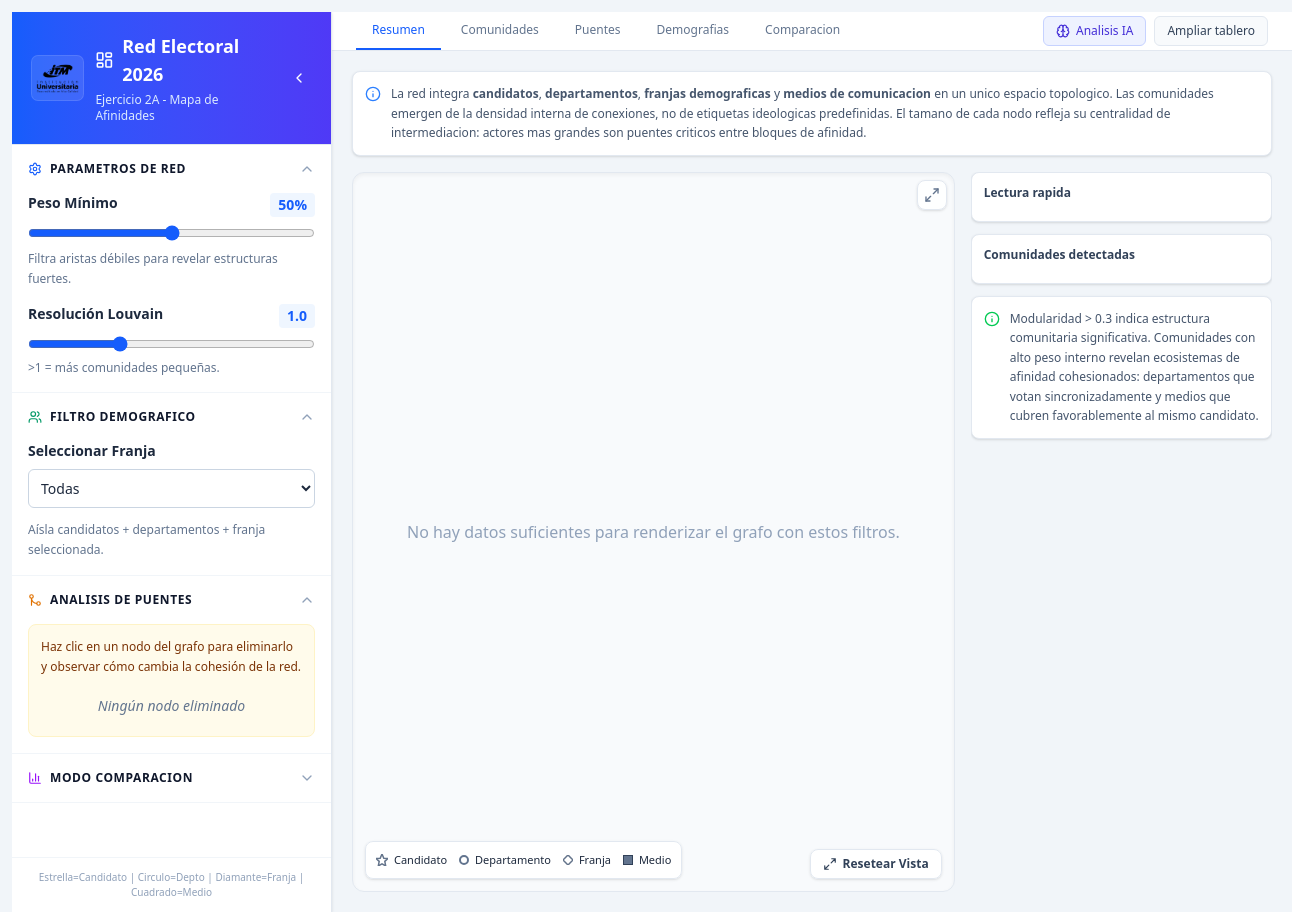
Scenario: App integration › permite cambiar de pestaña a Comunidades
This screenshot has width=1292, height=912.
Expected: the heading "Red Electoral 2026" is shown, [95,34,239,86]
Click the button "Comunidades".
click(500, 31)  # box [445,12,555,50]
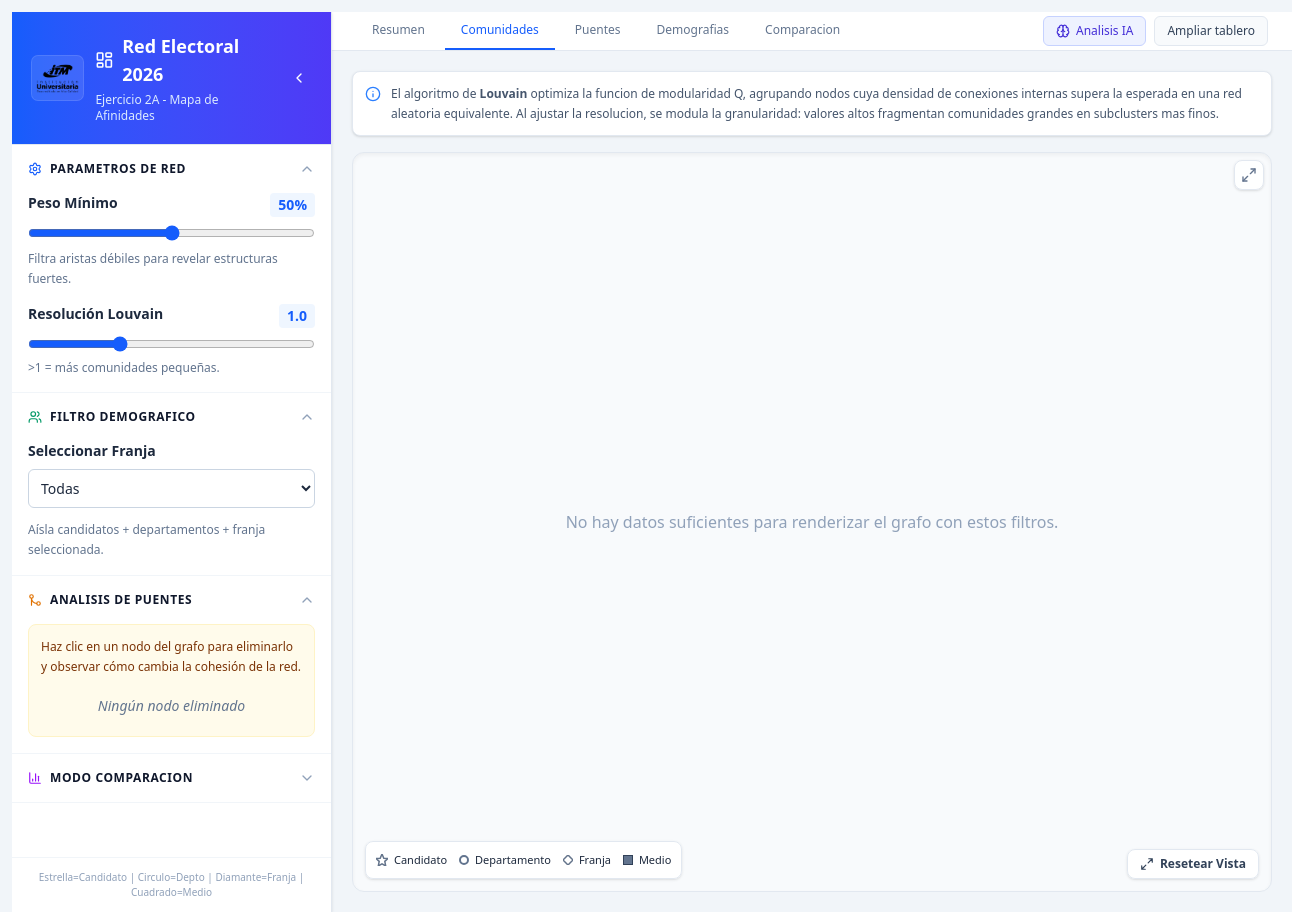
Result: the text "funcion de" is shown at [391,85,1242,122]
